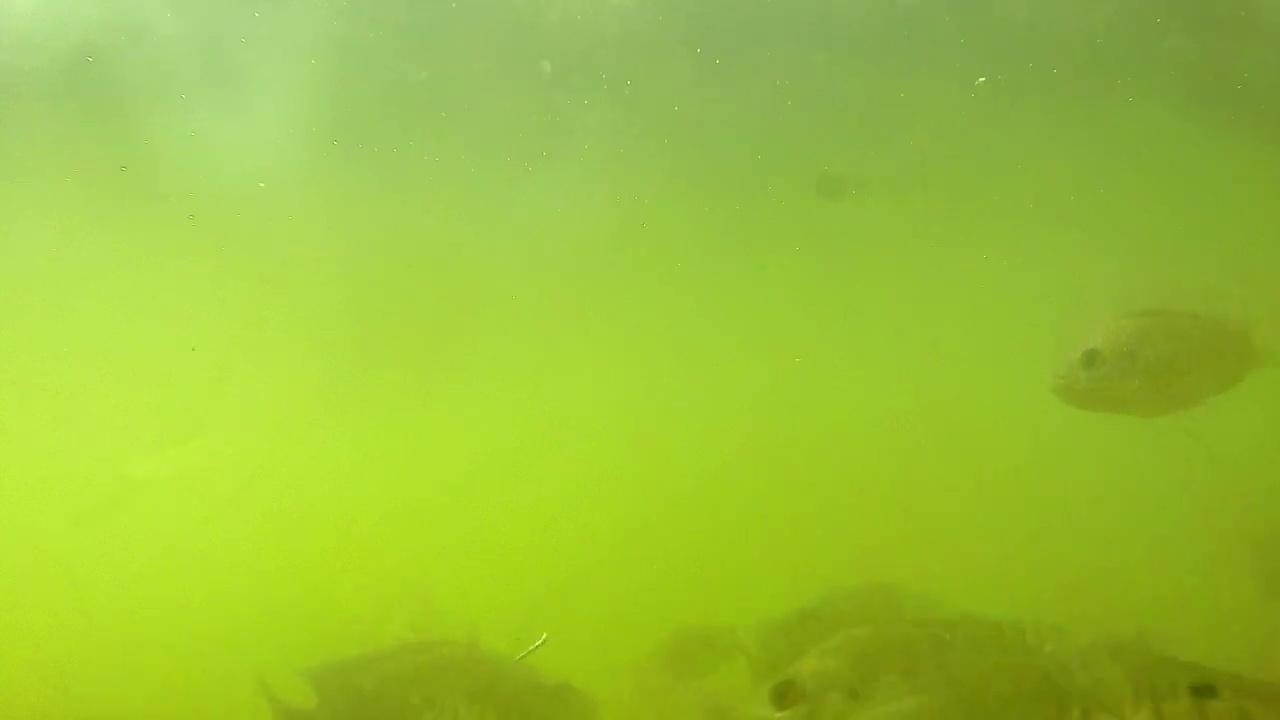Tilapia: (1043, 282, 1280, 438)
